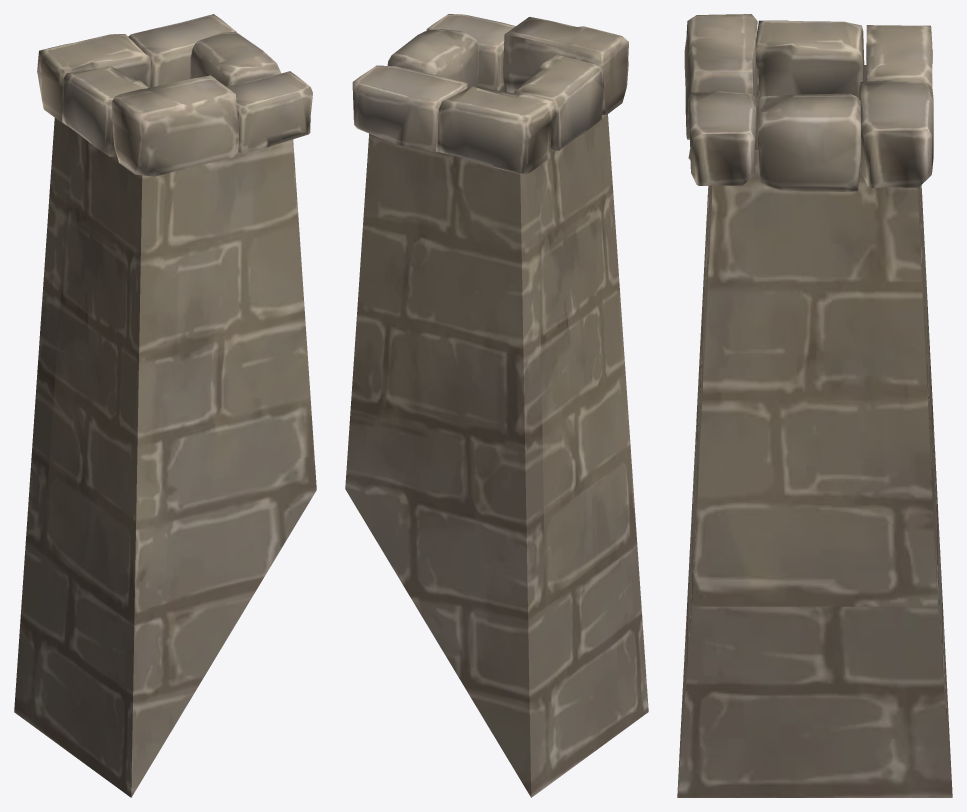
Rendered from chimney.glb.
The picture shows the model from 3 angles, left to right: view 1: azimuth 30°, elevation 25°; view 2: azimuth 150°, elevation 25°; view 3: azimuth 270°, elevation 25°; orthographic projection. The views are drawn at different scales.
Parts seen in each view (by area): view 1: Prop_Chimney; view 2: Prop_Chimney; view 3: Prop_Chimney.
Boxes of the visible parts, <box> form: Prop_Chimney: <box>14,14,316,797</box>; Prop_Chimney: <box>345,14,648,797</box>; Prop_Chimney: <box>677,14,952,797</box>.
Size of the model in its own units: 0.9459 by 3.18 by 1.
2 materials, 2 textured.
